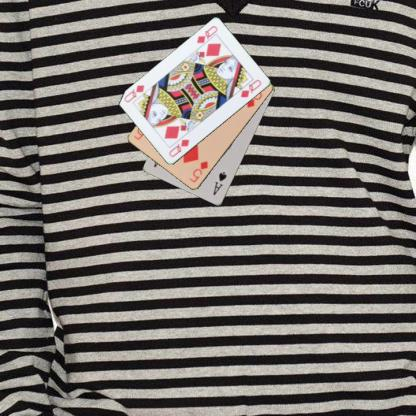5d: (187, 158, 209, 184)
As: (210, 170, 228, 196)
Qd: (194, 23, 219, 50), (166, 137, 191, 158)
